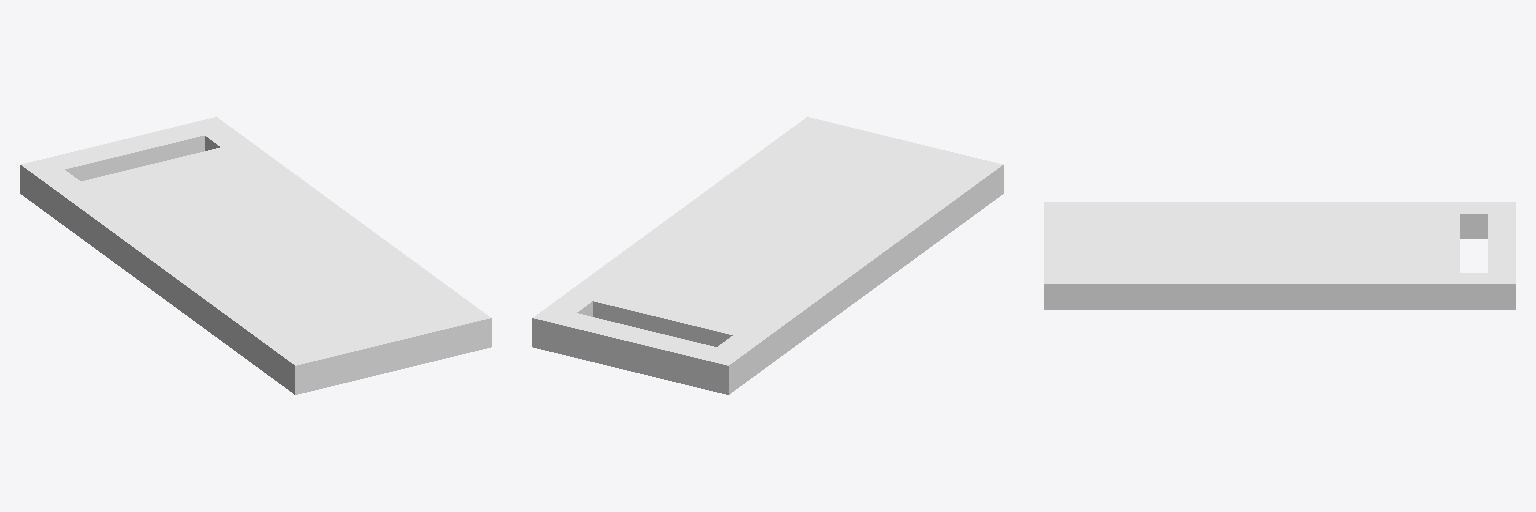
The robot description file, URDF, robot "HangingDummy":
<?xml version="1.0"?>
<robot name="HangingDummy">
  <material name="Blanc">
    <color rgba="1.0 1.0 1.0 1.0"/>
  </material>
  <link name="base_link">
    <visual>
      <origin xyz="0 0 0" rpy="0 0 0"/>
      <geometry>
        <mesh filename="dummy_test.obj" scale="1 1 1"/>
      </geometry>
      <material name="Blanc"/>
    </visual>
    <collision>
      <origin xyz="0 0 0" rpy="0 0 0"/>
      <geometry>
	 	     <mesh filename="dummy_test.obj" scale="1 1 1"/>
      </geometry>
    </collision>
    <contact>
      <lateral_friction value="3.0"/>
      <rolling_friction value="0.0001"/>
      <inertia_scaling value="3.0"/>
    </contact>
    <inertial>
      <origin rpy="0 0 0" xyz="0 0 0"/>
       <mass value="0.05"/>
       <inertia ixx="1" ixy="0" ixz="0" iyy="1" iyz="0" izz="1"/>
    </inertial>
  </link>

</robot>

--- What the picture shows (computed from the rendered views, not written in the file) ---
The picture shows the robot from 3 angles, left to right: view 1: azimuth 30°, elevation 25°; view 2: azimuth 150°, elevation 25°; view 3: azimuth 270°, elevation 25°; orthographic projection.
Model HangingDummy with 1 links and 0 joints (none), rooted at base_link, posed every joint at zero.
Visible links, largest first — view 1: base_link; view 2: base_link; view 3: base_link.
Boxes of the visible links, bbox=[...] form: base_link: bbox=[20, 117, 491, 394]; base_link: bbox=[532, 117, 1003, 394]; base_link: bbox=[1044, 202, 1515, 309].
Size in the robot's own frame: 0.07 by 0.17 by 0.01 metres.
1 mesh visuals loaded from 1 distinct referenced files (1 OBJ).
